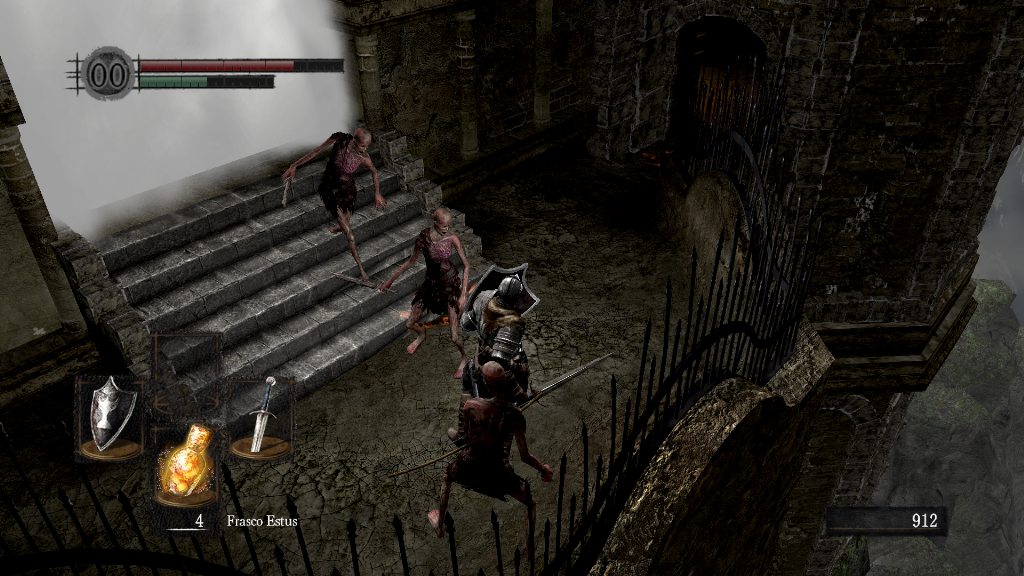health: (138, 58, 343, 71)
hollow: (426, 362, 560, 550), (284, 127, 386, 291), (384, 205, 467, 380)
humanity: (80, 45, 136, 102)
player: (443, 261, 617, 438)
souls: (825, 506, 945, 536)
stamina: (138, 74, 274, 88)
